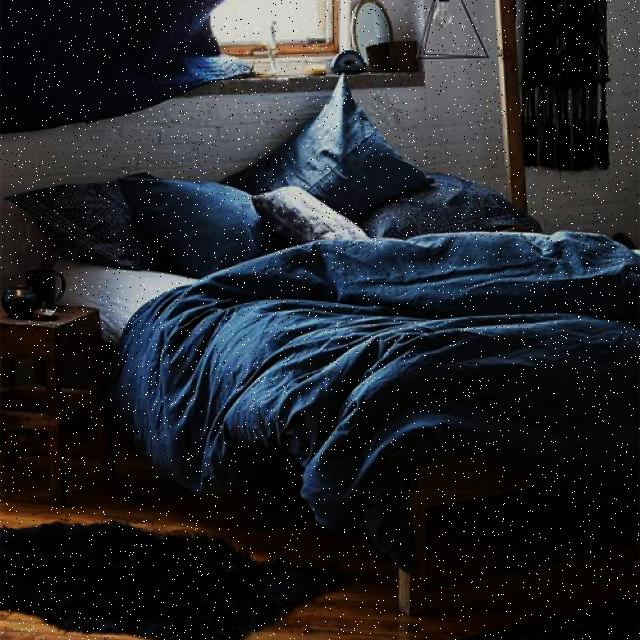bed: (50, 89, 640, 576)
